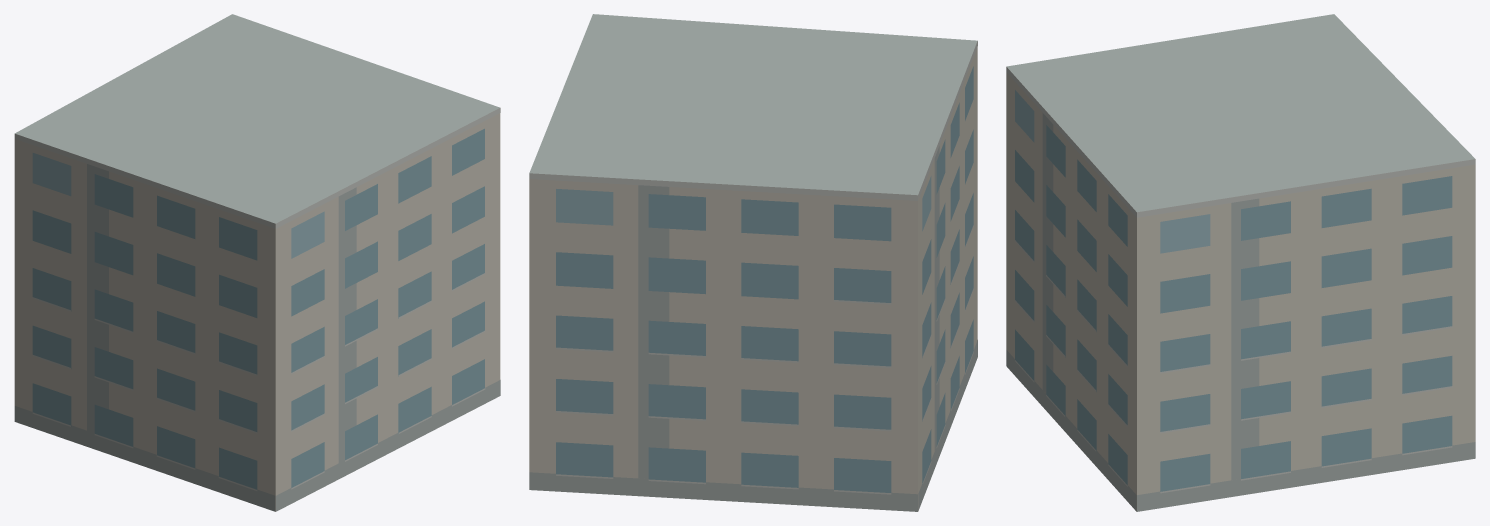
File: survey-upis-33043463.glb
The picture shows the model from 3 angles, left to right: view 1: azimuth 30°, elevation 25°; view 2: azimuth 150°, elevation 25°; view 3: azimuth 270°, elevation 25°; orthographic projection. The views are drawn at different scales.
Visible parts, largest first — view 1: survey-upis-33043463.tmp; view 2: survey-upis-33043463.tmp; view 3: survey-upis-33043463.tmp.
Part boxes in pixels (bbox=[...]): survey-upis-33043463.tmp: bbox=[14, 14, 500, 511]; survey-upis-33043463.tmp: bbox=[529, 14, 977, 511]; survey-upis-33043463.tmp: bbox=[1006, 14, 1475, 511].
Size of the model in its own units: 19.03 by 13.4 by 19.03.
